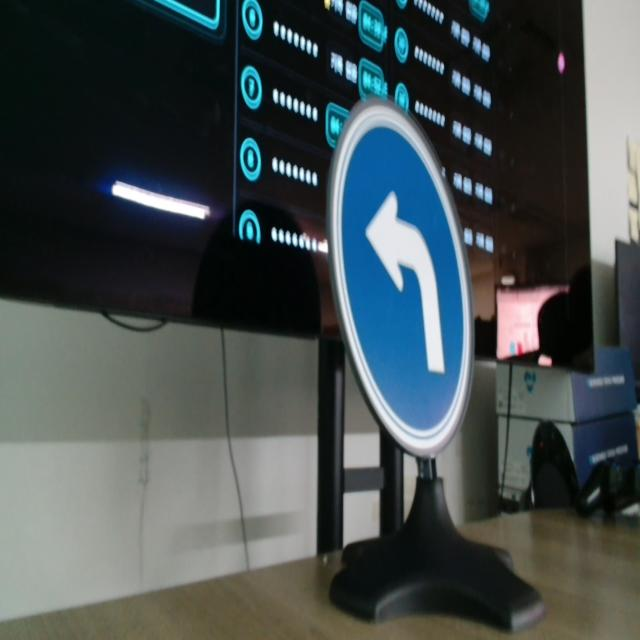left_direction: (324, 93, 478, 467)
